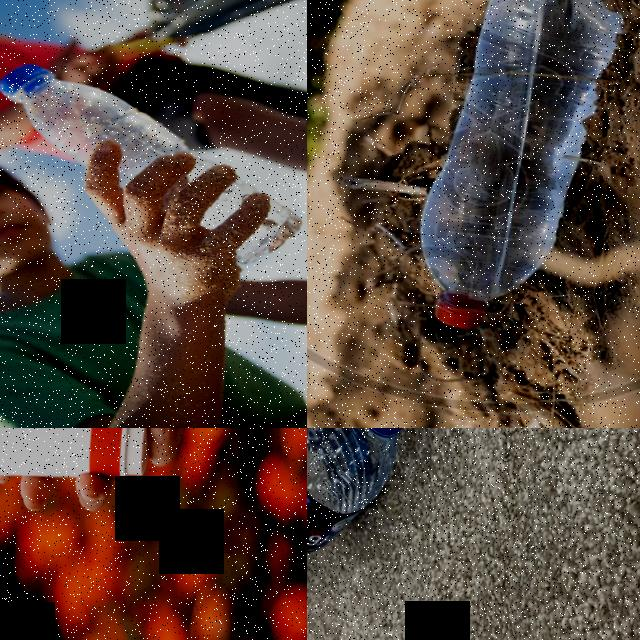bottle: (407, 0, 630, 343), (0, 55, 307, 273), (307, 428, 425, 623)
